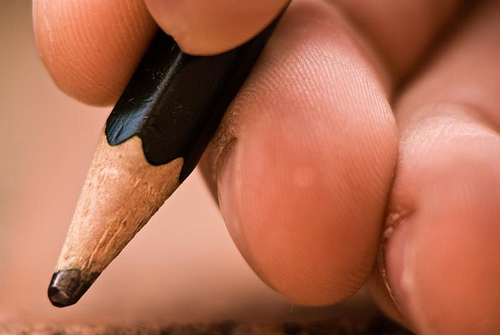pen_tip: (31, 119, 194, 317)
